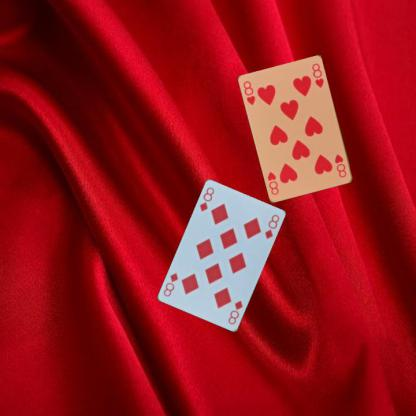8d: (197, 185, 216, 213), (226, 298, 244, 326)
8h: (332, 151, 348, 179), (241, 78, 256, 107)
